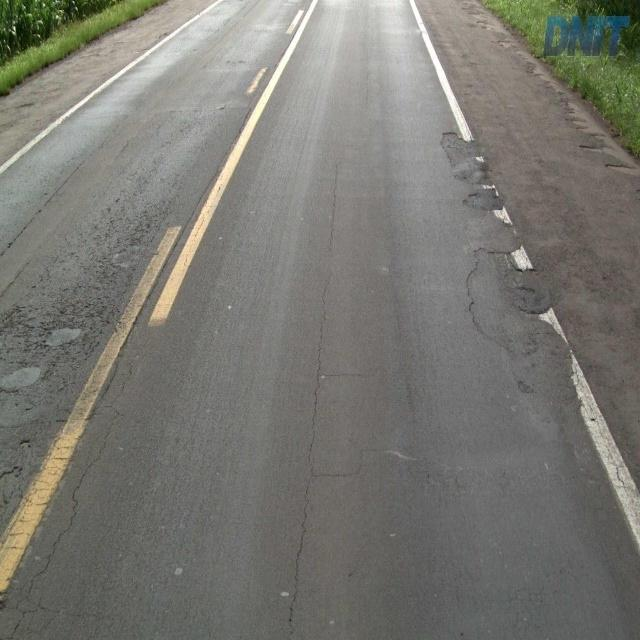pothole: (464, 244, 559, 363), (0, 282, 103, 379), (572, 110, 631, 185), (439, 129, 486, 183)
